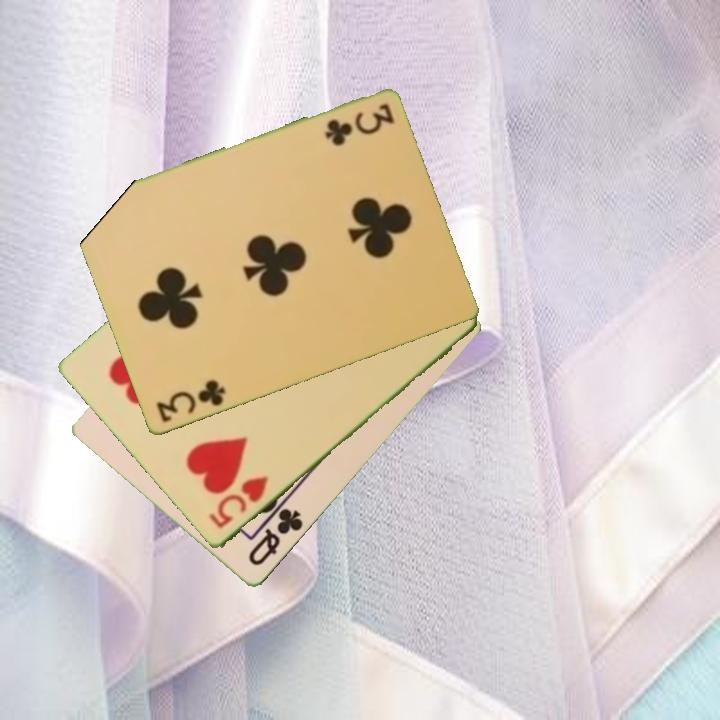3c: (152, 376, 228, 426), (321, 100, 397, 148)
5h: (205, 472, 272, 533)
Qc: (245, 505, 306, 570)
